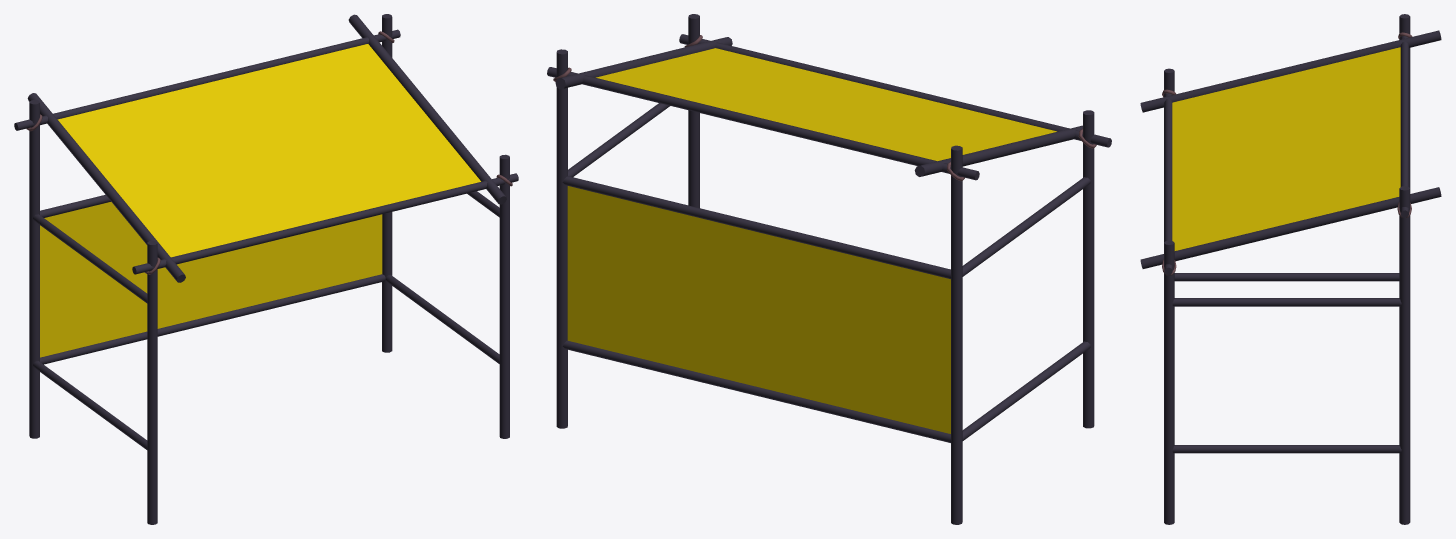
The model's file is market_tent_02.fbx.
The picture shows the model from 3 angles, left to right: view 1: azimuth 30°, elevation 25°; view 2: azimuth 150°, elevation 25°; view 3: azimuth 270°, elevation 25°; orthographic projection. The views are drawn at different scales.
Parts seen in each view (by area): view 1: market_tent_02; view 2: market_tent_02; view 3: market_tent_02.
Part boxes in pixels (x1,y1,x2,y2): market_tent_02: (14,14,518,524); market_tent_02: (547,14,1111,524); market_tent_02: (1140,14,1441,524).
Bounding box in the file's own units: 314 × 263 × 214.
